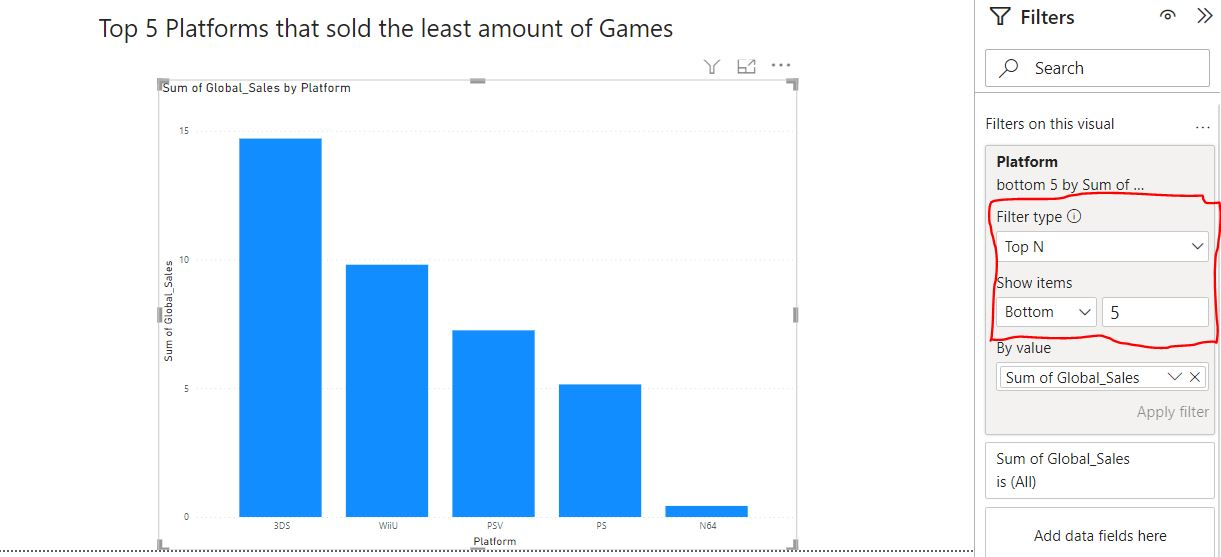

The page's visual inventory and layout, read from the dashboard file:
{"tool":"powerbi","page":{"name":"BottomN","canvas":[1280,720],"ordinal":3},"visuals":[{"type":"clusteredColumnChart","fields":{"Y":["Sum(Sheet1.Global_Sales)"],"Category":["Sheet1.Platform"]},"box":[227.4,112.9,824,607.9],"z":0},{"type":"textbox","box":[145.1,19.4,906.2,67.7],"z":1}]}

Visuals, with their boxes on the page's 1280x720 design canvas (x1, y1, x2, y2). These are canvas units, not pixel positions in the 1221x557 screenshot, which may show the page scaled, cropped or inside an application window:
clusteredColumnChart - Sum(Sheet1.Global_Sales) x Sheet1.Platform: [left=227, top=113, right=1051, bottom=721]
textbox: [left=145, top=19, right=1051, bottom=87]
